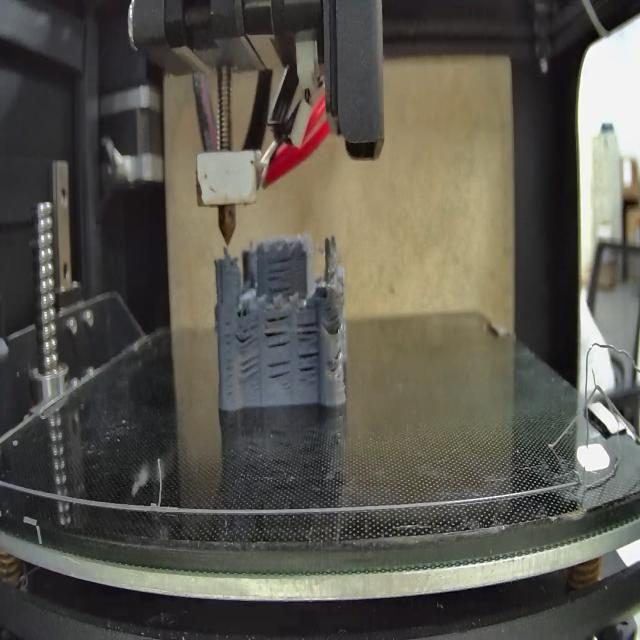cracks: (298, 320, 319, 384), (220, 316, 235, 399), (264, 254, 294, 293), (264, 311, 292, 350), (264, 359, 292, 385), (237, 320, 259, 353), (326, 306, 347, 338), (240, 359, 261, 383), (334, 339, 342, 363)
